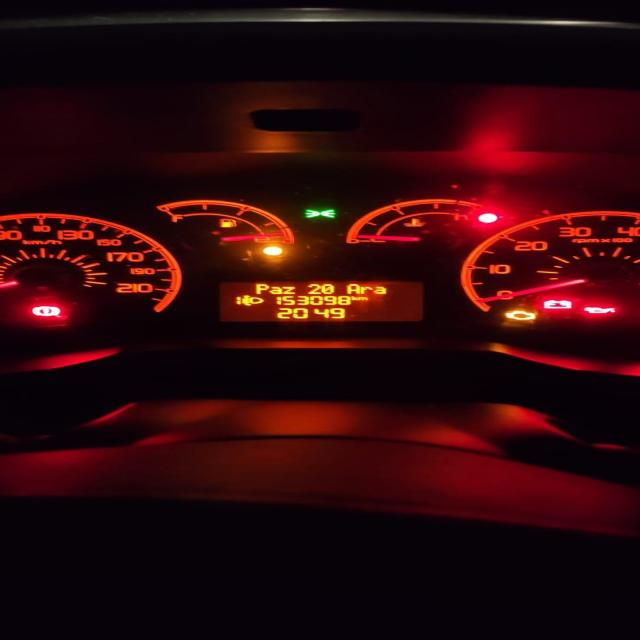odometer: (218, 280, 428, 322)
